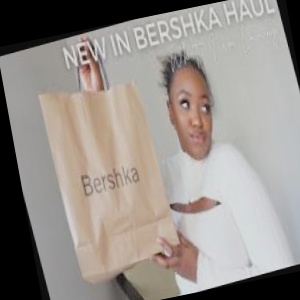bershka: (107, 82, 181, 222), (153, 0, 284, 18)
